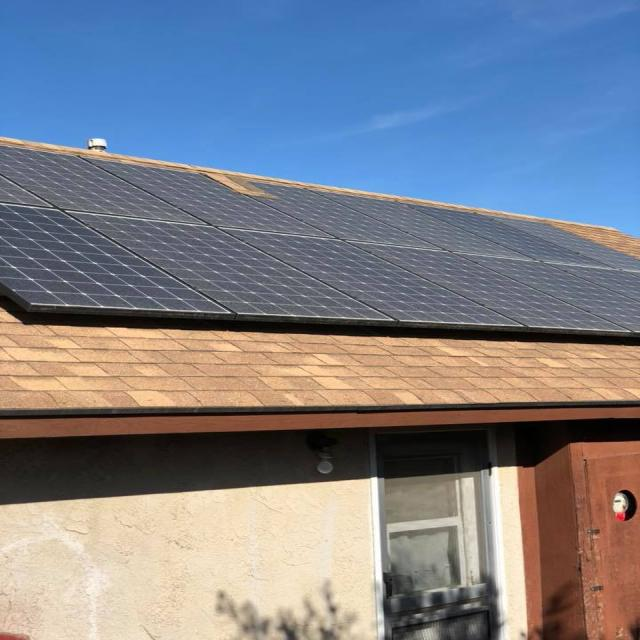dust-solar-panel: (0, 149, 640, 333)
